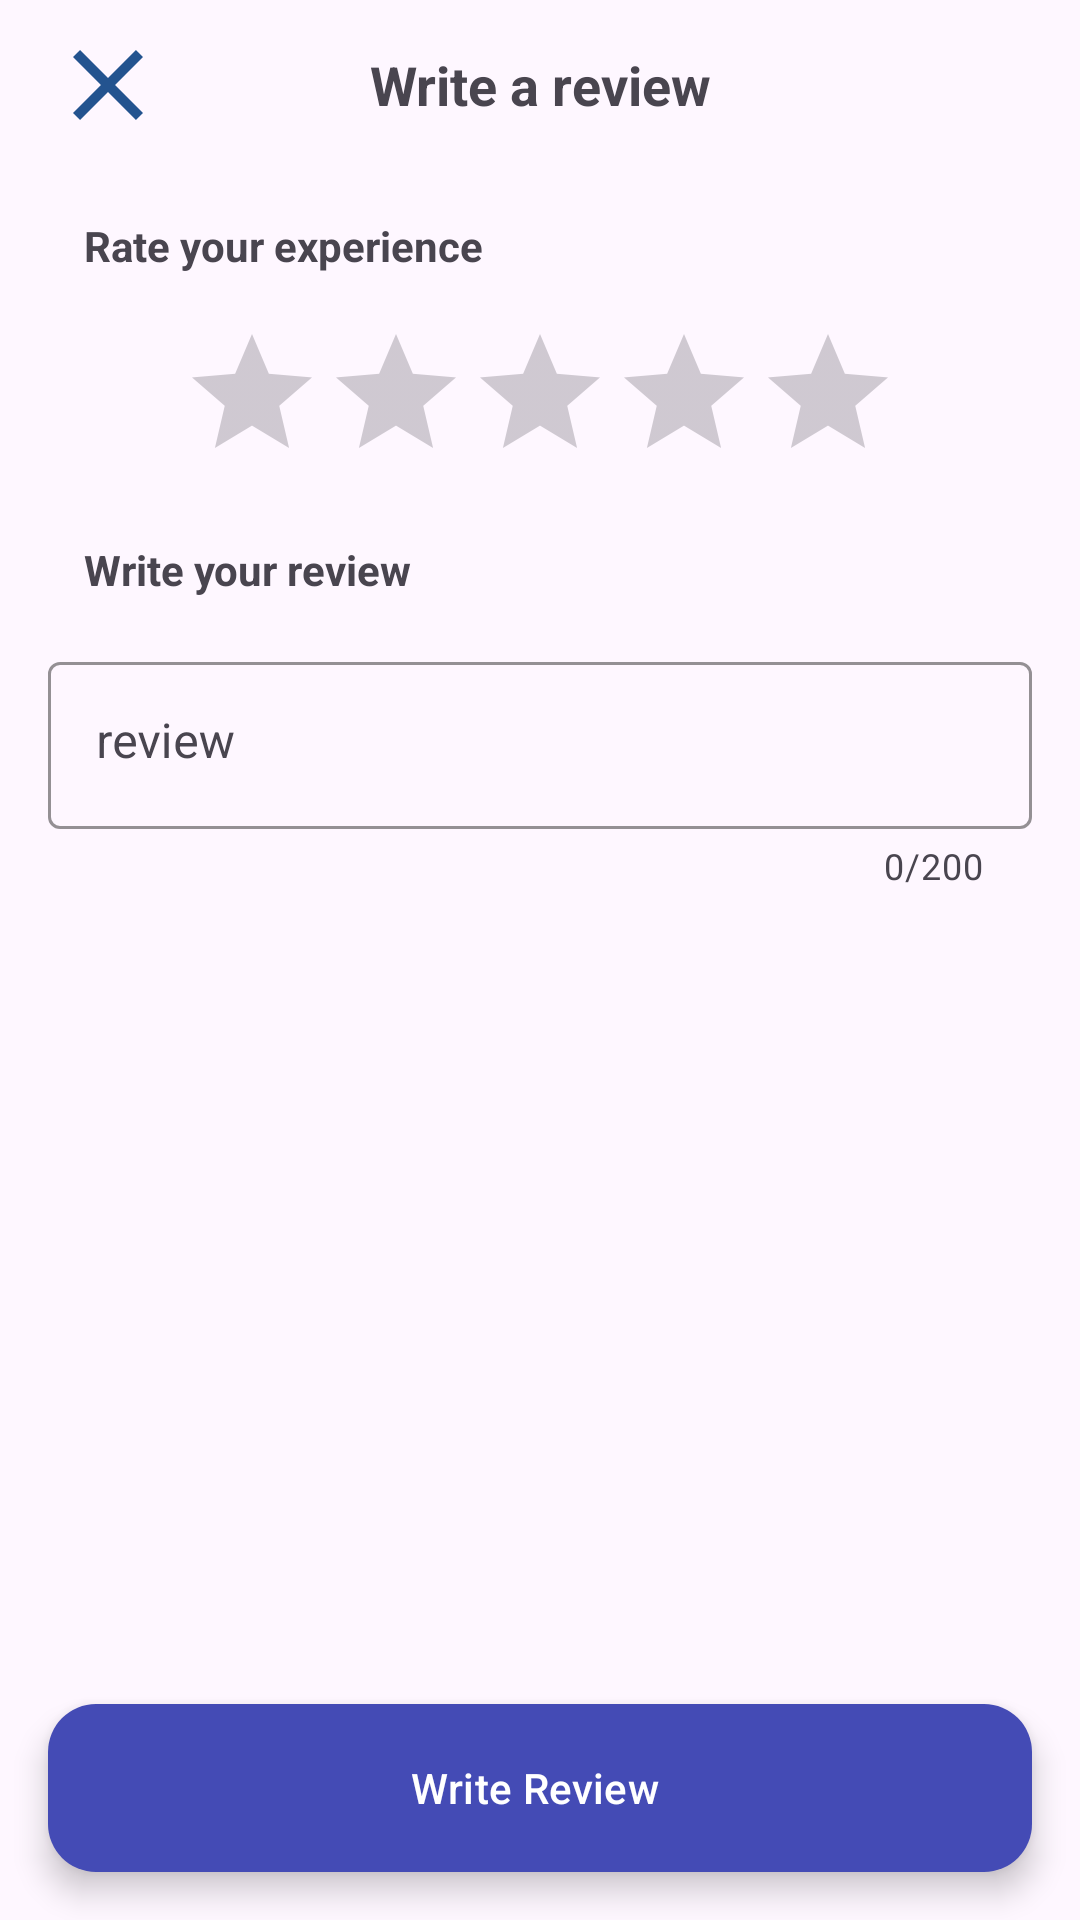

Screen size 1080w x 1920h. Icon name, then its box in pixels as rect(x1, y1, x2, y2):
close: rect(73, 50, 143, 120)
